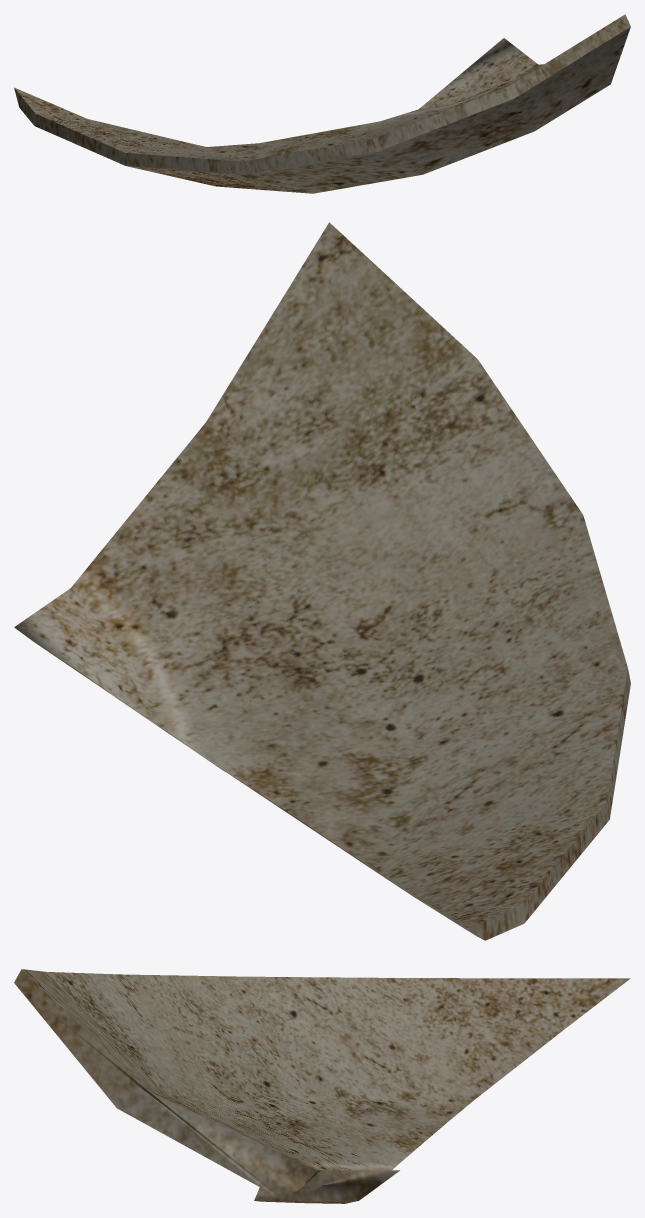
File: PlateDeepShardE.fbx
3 views of the same model, one above another, from view 1: azimuth 30°, elevation 25°; view 2: azimuth 150°, elevation 25°; view 3: azimuth 270°, elevation 25° (orthographic). The views are drawn at different scales.
Parts seen in each view (by area): view 1: Default_Layer; view 2: Default_Layer; view 3: Default_Layer.
Boxes of the visible parts, box(x1,y1,x2,y2) form: Default_Layer: box(14, 14, 630, 193); Default_Layer: box(14, 222, 630, 940); Default_Layer: box(14, 969, 630, 1203).
Bounding box in the file's own units: 40.52 × 23.24 × 45.89.
